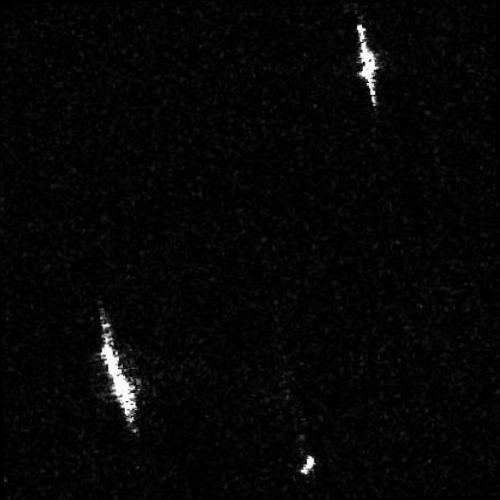ship: (98, 305, 137, 425), (357, 22, 379, 109), (298, 455, 316, 477)
